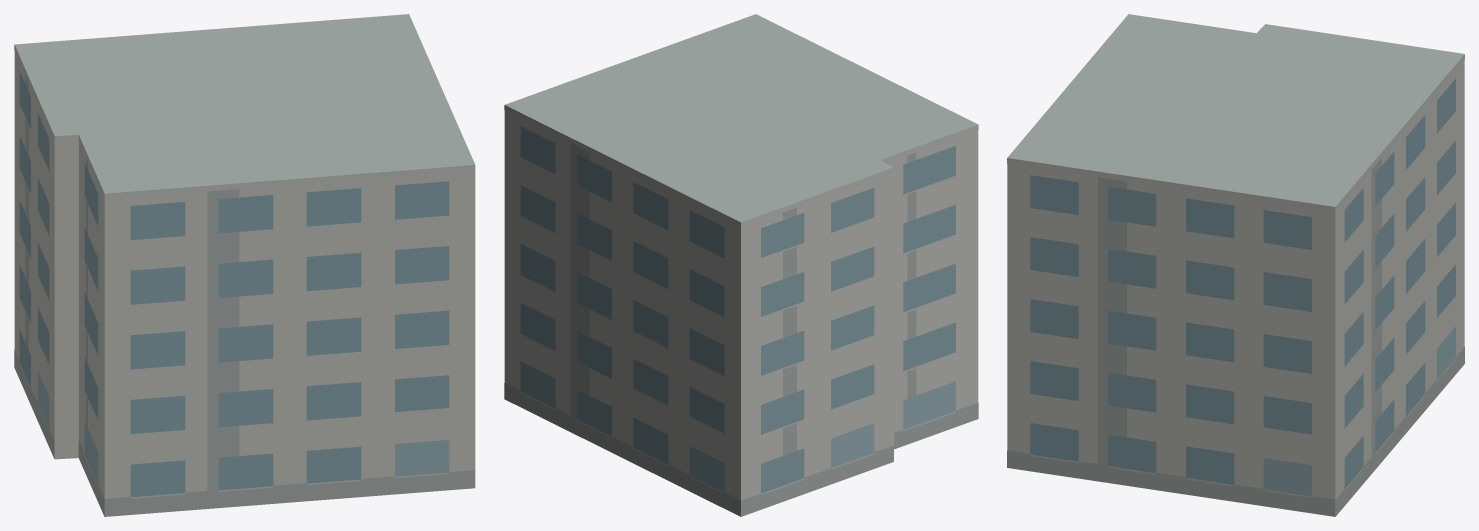
Rendered from survey-upis-32884117.glb.
The picture shows the model from 3 angles, left to right: view 1: azimuth 30°, elevation 25°; view 2: azimuth 150°, elevation 25°; view 3: azimuth 270°, elevation 25°; orthographic projection. The views are drawn at different scales.
Visible parts, largest first — view 1: survey-upis-32884117.tmp; view 2: survey-upis-32884117.tmp; view 3: survey-upis-32884117.tmp.
Boxes of the visible parts, bbox=[...] form: survey-upis-32884117.tmp: bbox=[14, 14, 475, 516]; survey-upis-32884117.tmp: bbox=[504, 14, 978, 516]; survey-upis-32884117.tmp: bbox=[1007, 14, 1464, 516].
Size of the model in its own units: 17.63 by 13.2 by 17.67.
